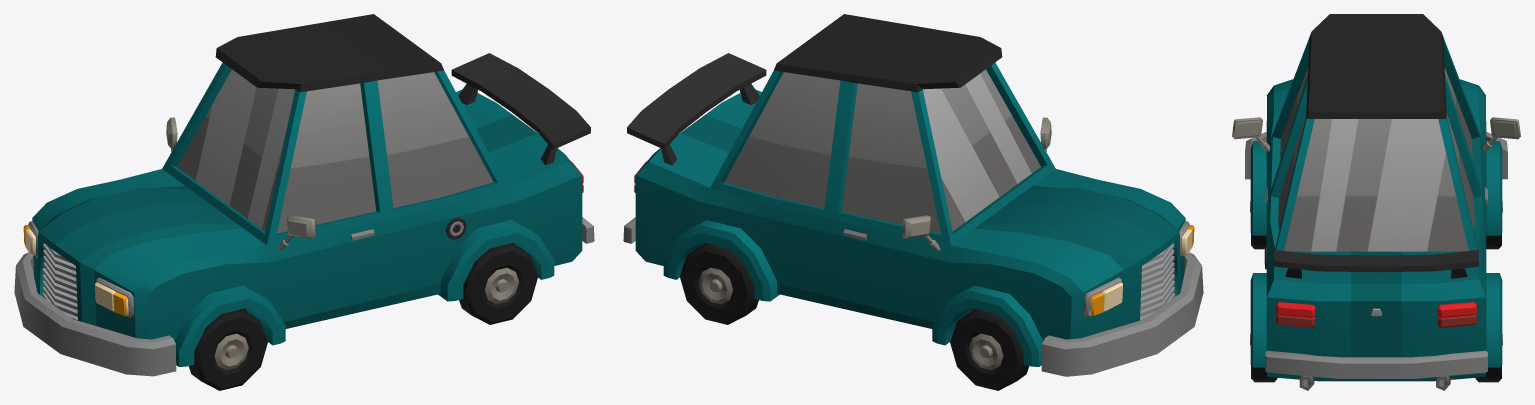
Rendered from Car_2_G.gltf.
3 views of the same model, side by side, from view 1: azimuth 30°, elevation 25°; view 2: azimuth 150°, elevation 25°; view 3: azimuth 270°, elevation 25° (orthographic).
Parts seen in each view (by area): view 1: Car_2_G, RL, FL; view 2: Car_2_G, RR, FR; view 3: Car_2_G, RL, RR.
Boxes of the visible parts, x1,y1,x2,y2 form: Car_2_G: (14, 14, 594, 376); RL: (459, 243, 538, 324); FL: (188, 309, 267, 390); Car_2_G: (623, 14, 1203, 376); RR: (679, 243, 758, 324); FR: (950, 309, 1029, 390); Car_2_G: (1232, 14, 1520, 390); RL: (1250, 334, 1277, 382); RR: (1475, 334, 1502, 382).
Size of the model in its own units: 3.64 by 1.8 by 1.78.
4 materials, 4 textured.
